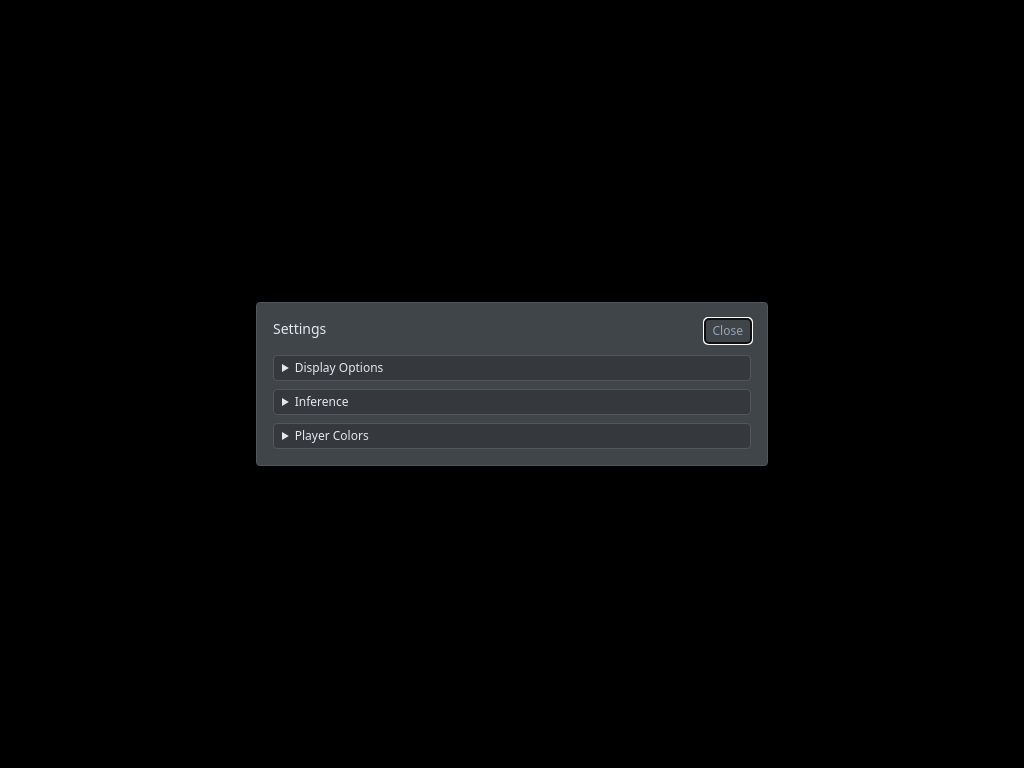
Test: SettingsModal backfill earlier turns › keeps the checkbox off and disabled until a game is selected
Click the heading "Inference".
click(322, 402)  # box [295,393,348,410]
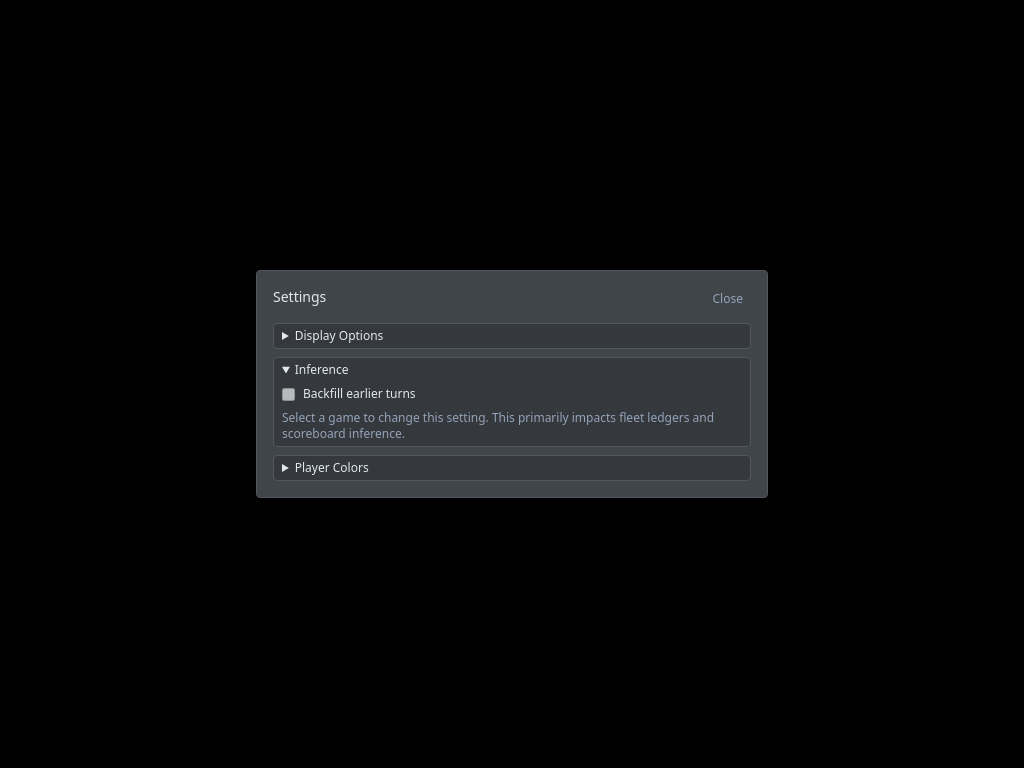
Expected: the checkbox labelled "Backfill earlier turns" is disabled, [282,388,295,400]
Expected: the text "Select a game to change this setting" is shown, [282,409,489,426]
Expected: the text "this primarily impacts fleet ledgers and scoreboard inference" is shown, [282,409,714,442]
